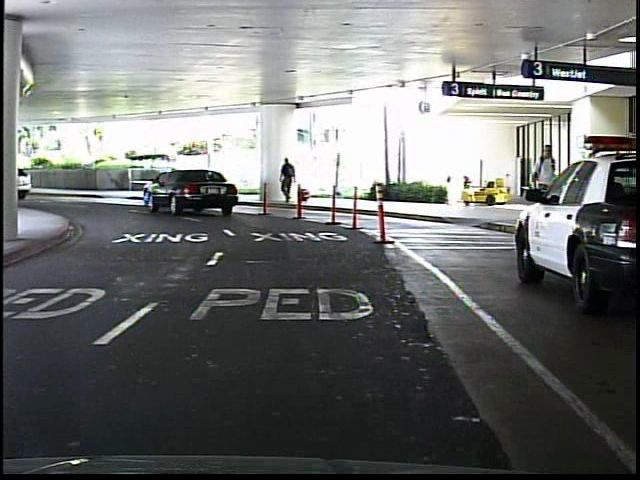person: (529, 141, 558, 235), (274, 157, 303, 209)
